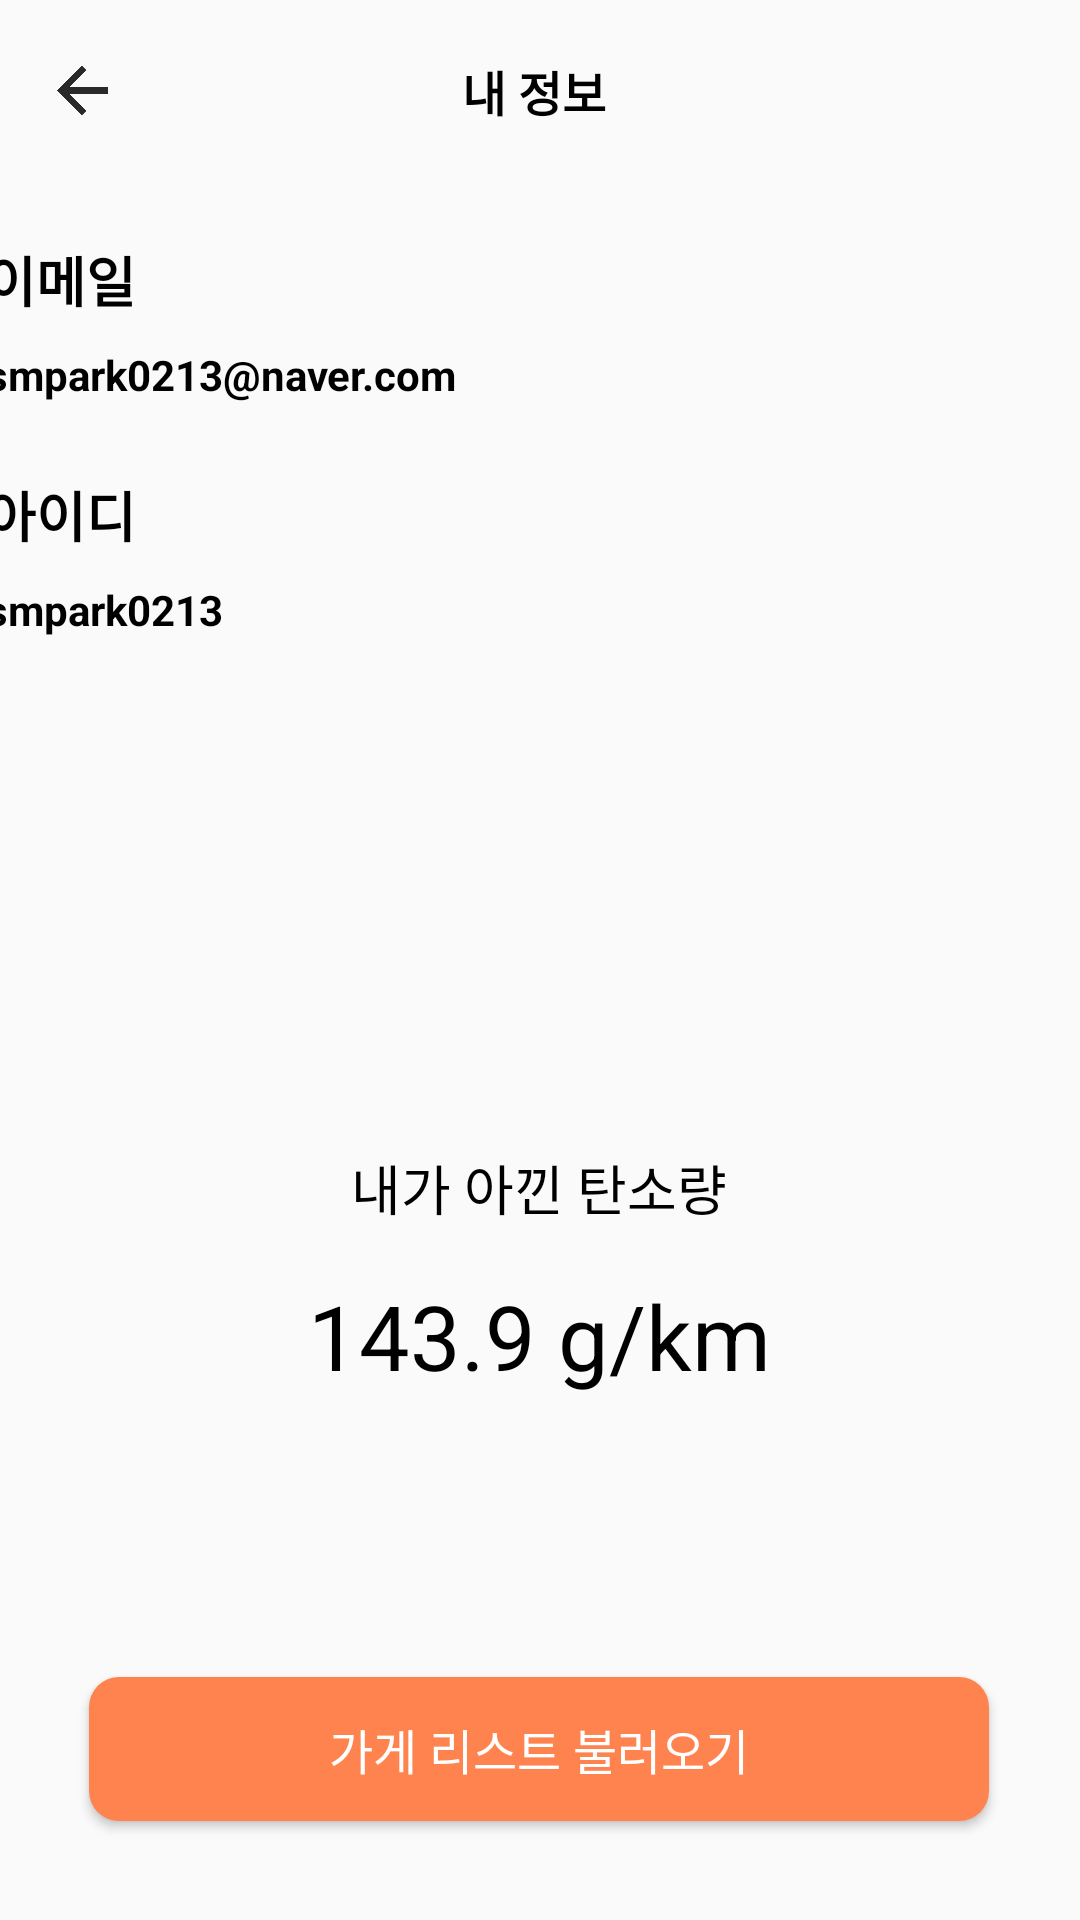

Where icons sit on this 1080x1920 app screen, as (x1, y1, x2, y2):
back hd: (57, 66, 108, 115)
